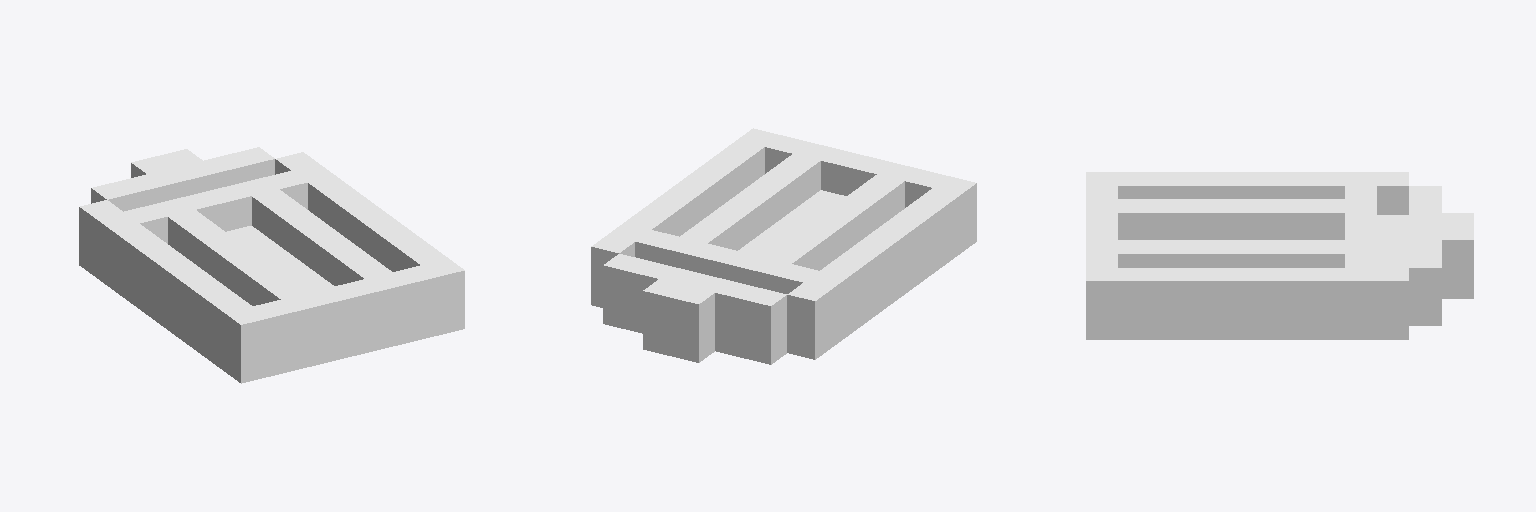
The model's file is buttonShape_discard.obj.
3 renders of one model, left to right at view 1: azimuth 30°, elevation 25°; view 2: azimuth 150°, elevation 25°; view 3: azimuth 270°, elevation 25°, orthographic.
Bounding box in the file's own units: 8 × 2 × 12.